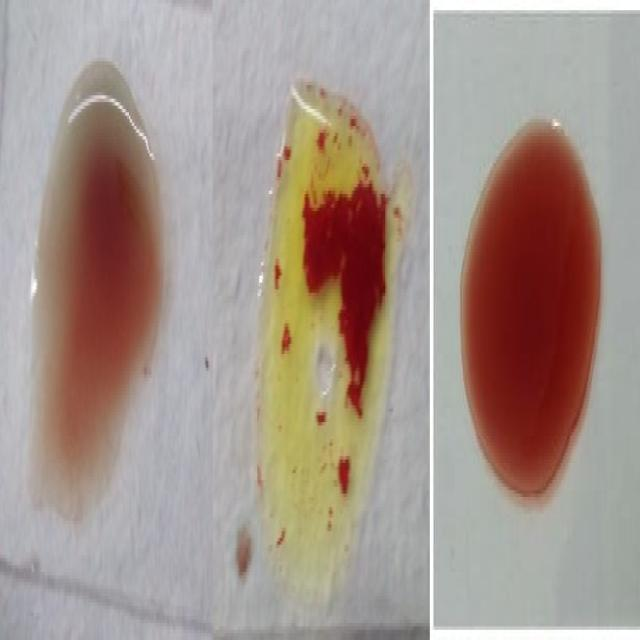B: (252, 77, 387, 587)
